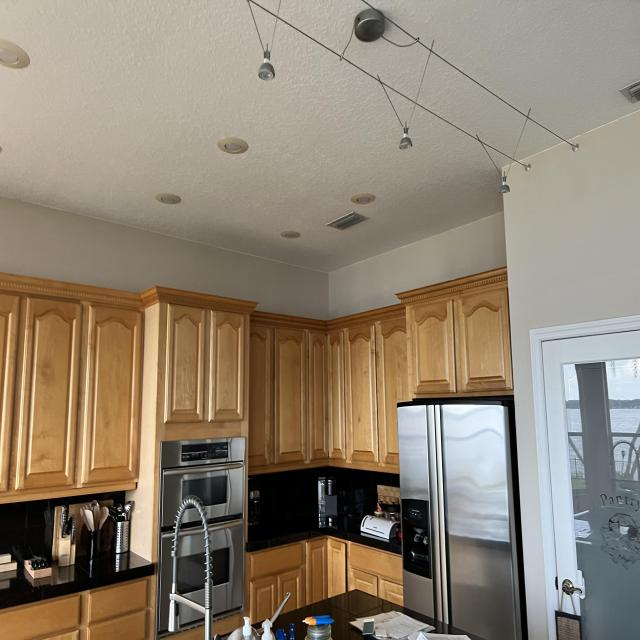Appliance_Fridge: (397, 396, 526, 640)
Appliance_Oven: (159, 437, 248, 635)
Appliance_Sink: (167, 496, 213, 640)
Cabinet_Flat: (0, 578, 148, 640), (348, 544, 401, 579), (252, 543, 304, 575)
Cabinet_Raised_Panel: (0, 269, 513, 564), (251, 536, 403, 624)
Countertop_Solid_Surface: (275, 590, 468, 640), (0, 551, 155, 610), (244, 516, 405, 554)
